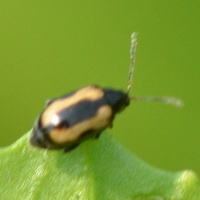insect: (30, 32, 182, 151)
